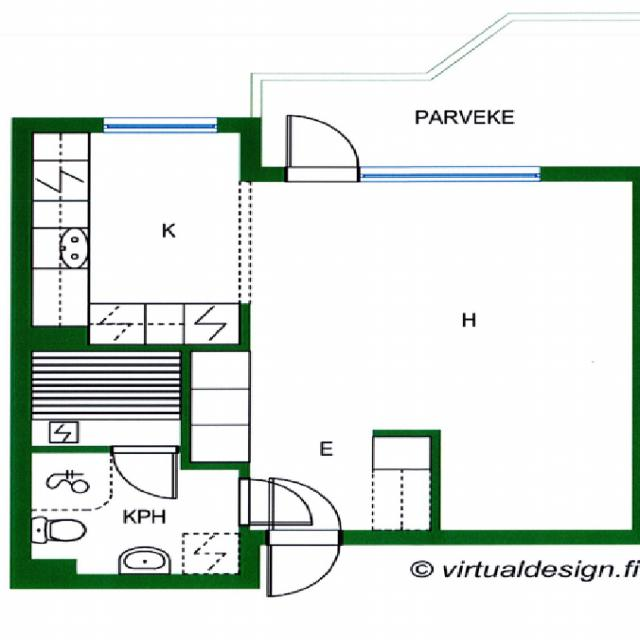door: (288, 117, 358, 181), (271, 530, 339, 594), (271, 482, 339, 544), (240, 480, 312, 525), (114, 446, 175, 498)
